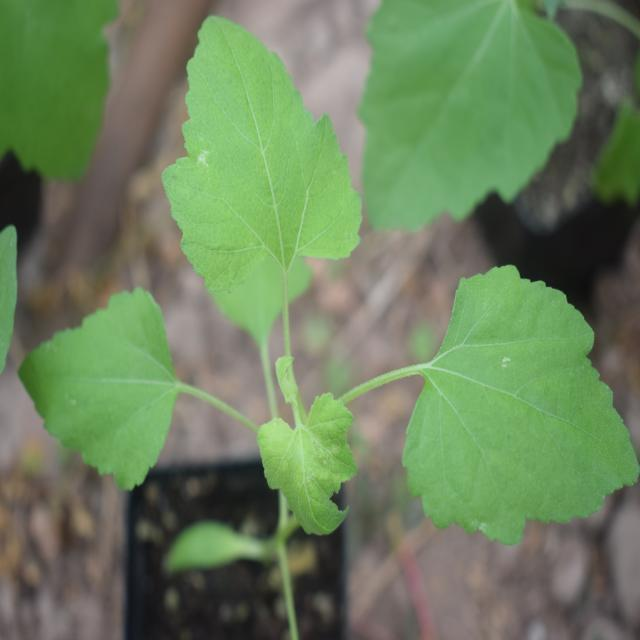cocklebur: (55, 38, 639, 539)
